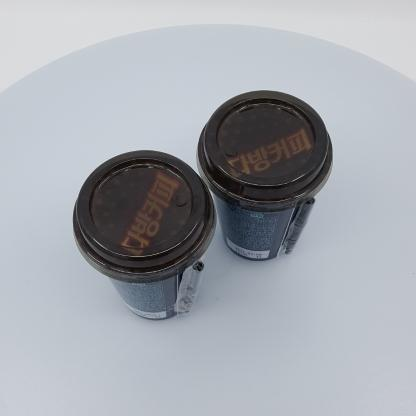----------: (73, 150, 217, 320), (196, 90, 333, 261)
